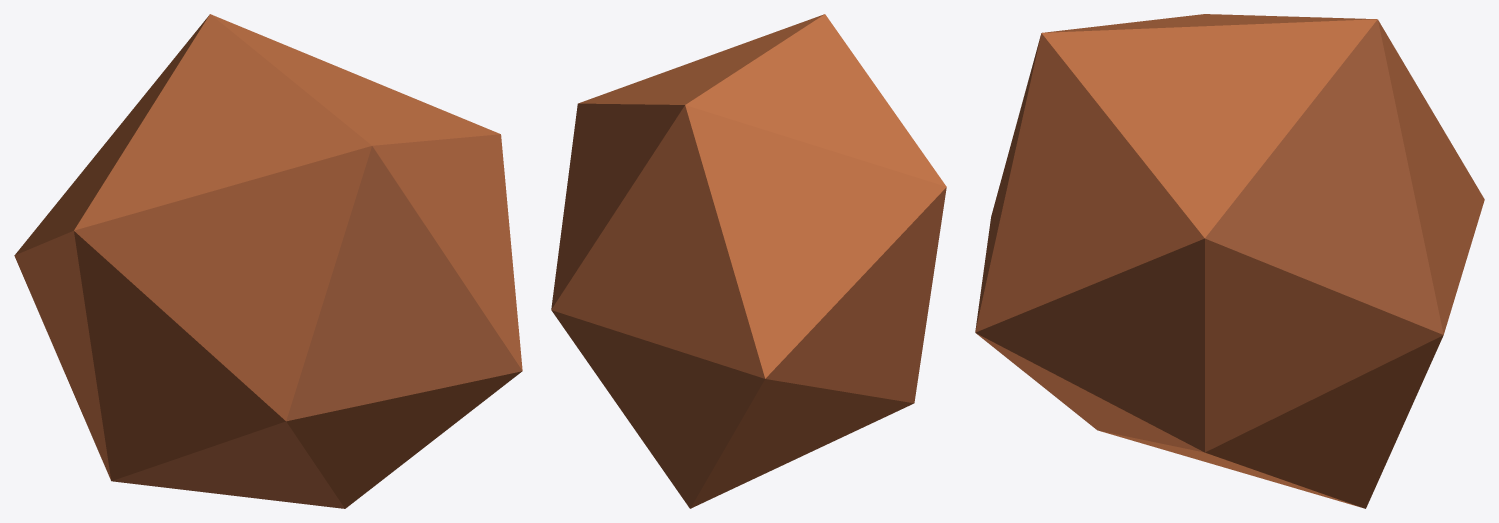
File: SM_Rock_1.obj
3 renders of one model, left to right at view 1: azimuth 30°, elevation 25°; view 2: azimuth 150°, elevation 25°; view 3: azimuth 270°, elevation 25°, orthographic. The views are drawn at different scales.
Visible parts, largest first — view 1: SM_Rock_1; view 2: SM_Rock_1; view 3: SM_Rock_1.
Part boxes in pixels (x1,y1,x2,y2): SM_Rock_1: (14,14,522,508); SM_Rock_1: (551,14,946,508); SM_Rock_1: (975,14,1484,508).
Size of the model in its own units: 1.89 by 2 by 1.89.
Materials: 1 (1 with a texture image).
